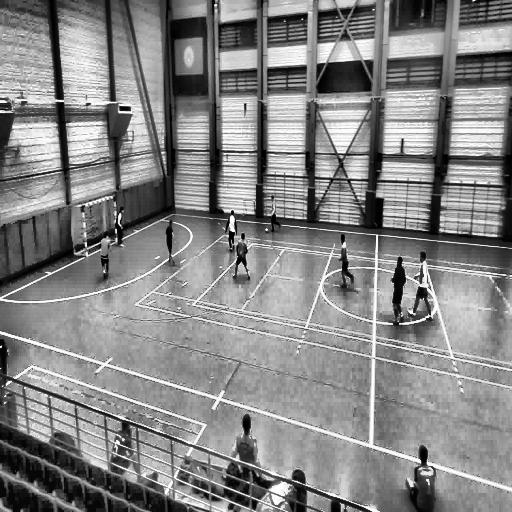ball: (265, 226, 270, 235)
player: (107, 414, 146, 480), (230, 412, 264, 474), (405, 444, 436, 512), (408, 250, 432, 319), (232, 232, 253, 284), (392, 255, 406, 324), (340, 233, 354, 288), (224, 209, 237, 253), (100, 231, 111, 279), (165, 218, 176, 266), (269, 196, 280, 233), (115, 206, 125, 246)
